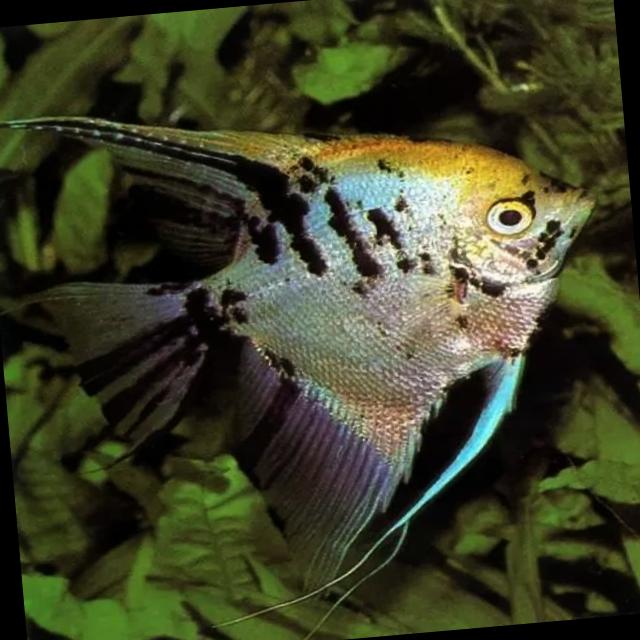AngelFish: (0, 56, 637, 640)
